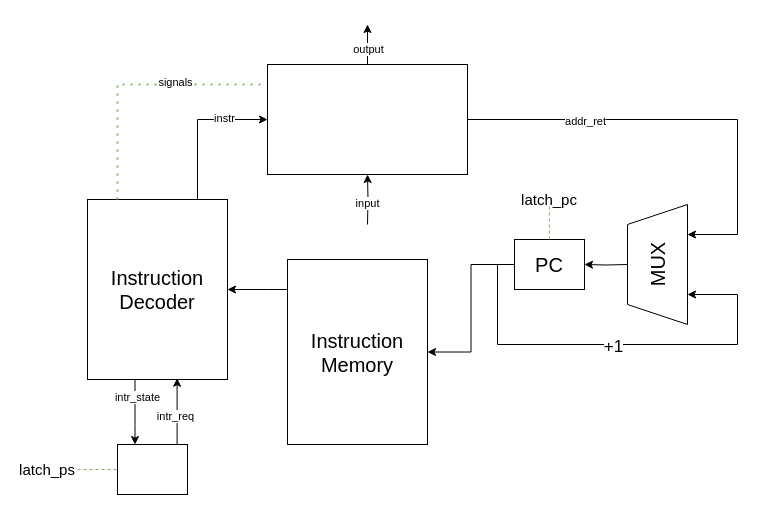
Some shapes in this 763 by 512 pixel diagram are drawn without their labels. The box of each missing label's shape, as (x1, y1, x2, y2) in pixels:
Data Path: (266, 64, 468, 174)
PS: (116, 444, 188, 494)
